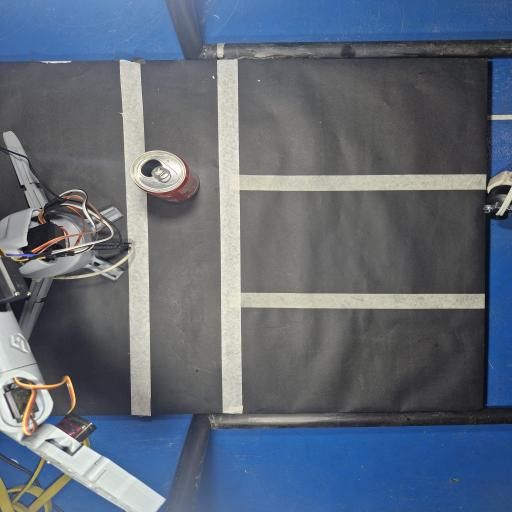lata: (131, 151, 199, 202)
